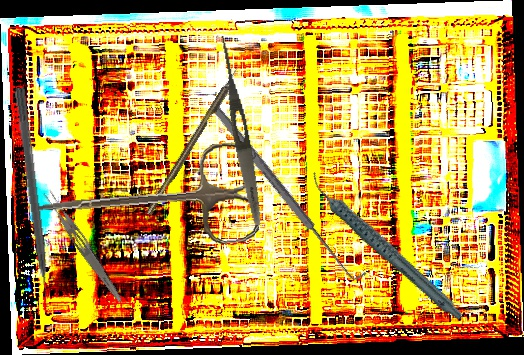Dressing Forceps: (39, 187, 129, 305), (213, 34, 267, 227)
Handpiece: (308, 147, 465, 345)
Hook Surgical: (208, 97, 368, 288), (144, 64, 244, 216)
Iris Scissors: (26, 140, 261, 264)
Pusher: (12, 87, 53, 312)
